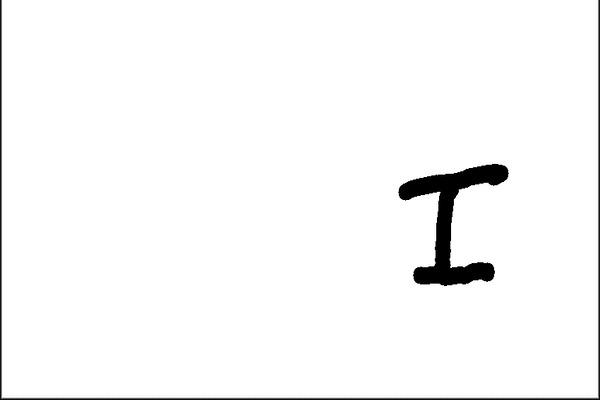i: (390, 161, 509, 290)
